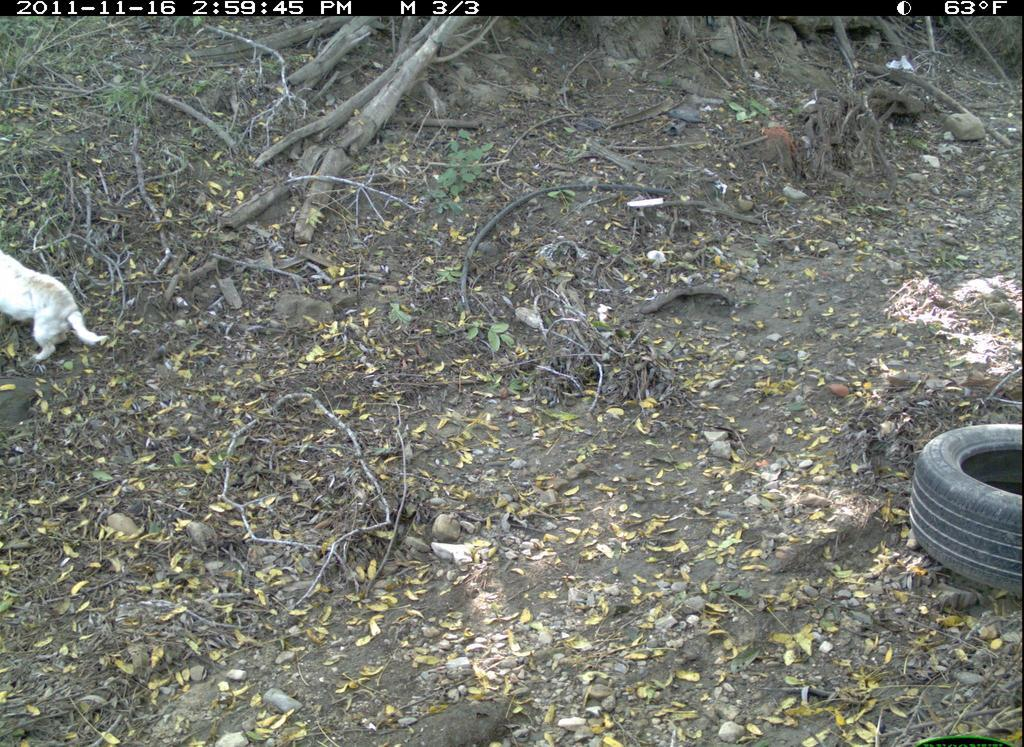dog: (2, 244, 113, 369)
